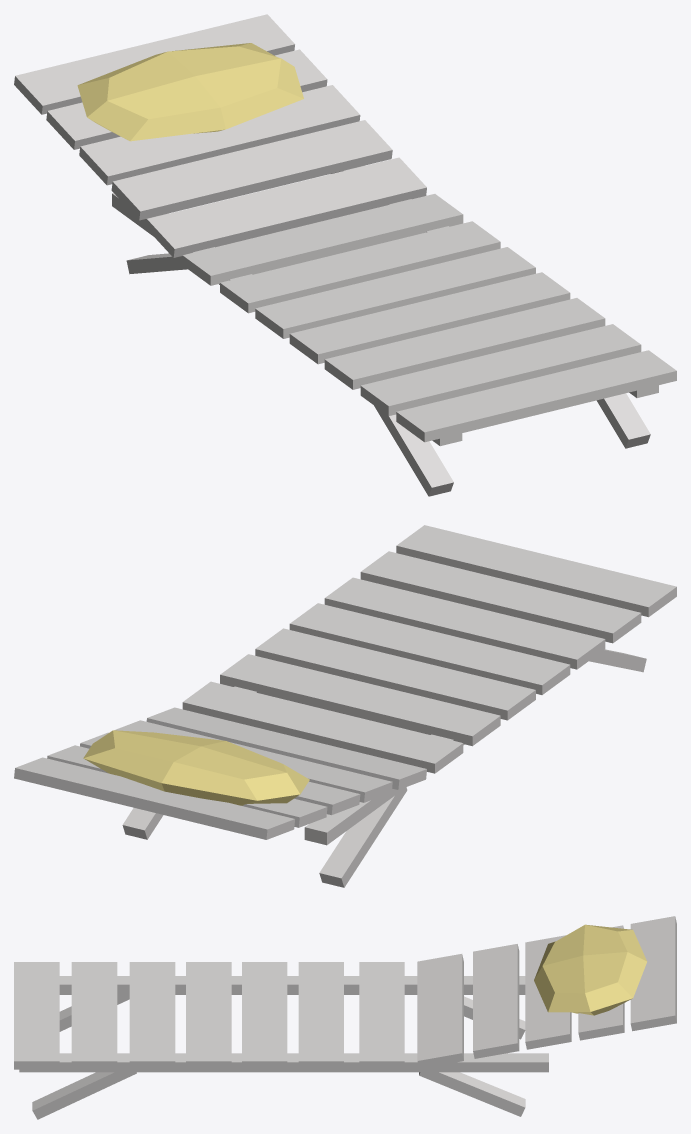
Rendered from O_Enviroment_LoungeChair_2.fbx.
The picture shows the model from 3 angles, top to bottom: view 1: azimuth 30°, elevation 25°; view 2: azimuth 150°, elevation 25°; view 3: azimuth 270°, elevation 25°; orthographic projection. The views are drawn at different scales.
Visible parts, largest first — view 1: pCube24; view 2: pCube24; view 3: pCube24.
Boxes of the visible parts, bbox=[...] form: pCube24: bbox=[14, 14, 676, 496]; pCube24: bbox=[14, 525, 676, 887]; pCube24: bbox=[14, 916, 676, 1119].
Size of the model in its own units: 2 by 1.15 by 5.63.
